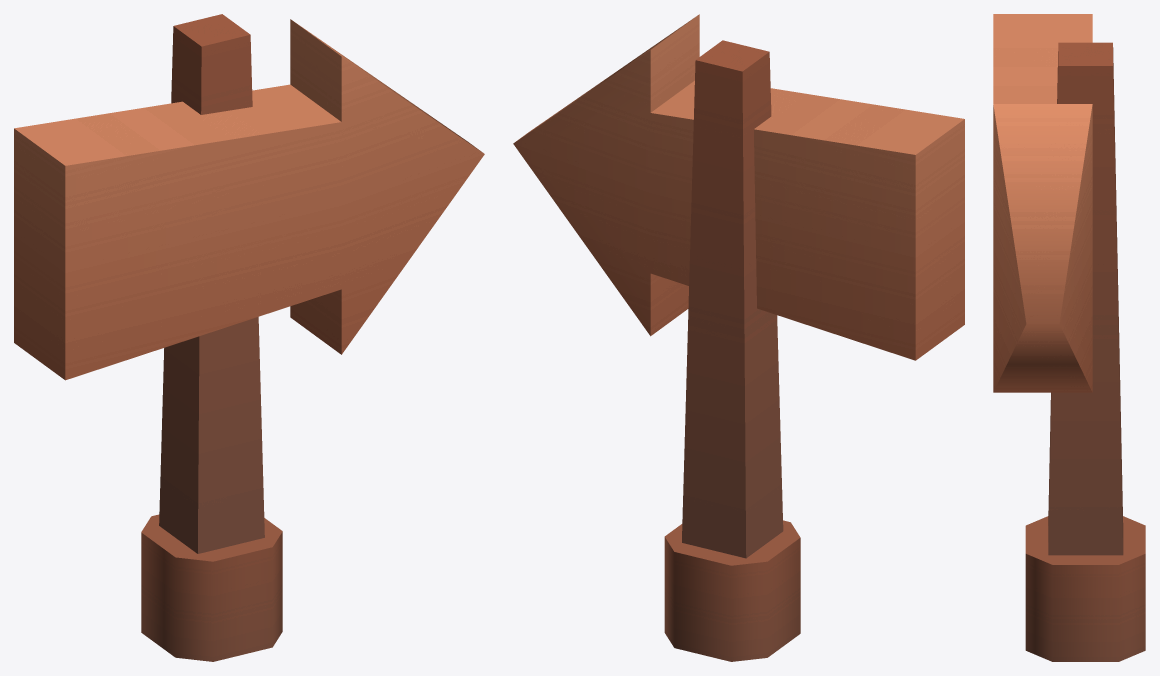
File: arrow.glb
3 renders of one model, left to right at view 1: azimuth 30°, elevation 25°; view 2: azimuth 150°, elevation 25°; view 3: azimuth 270°, elevation 25°, orthographic. The views are drawn at different scales.
Visible parts, largest first — view 1: arrow; view 2: arrow; view 3: arrow.
Boxes of the visible parts, box(x1,y1,x2,y2) form: arrow: box(14, 14, 484, 661); arrow: box(513, 14, 964, 661); arrow: box(993, 14, 1145, 661).
Size of the model in its own units: 0.4557 by 0.6 by 0.1423.
1 material, 1 textured.
